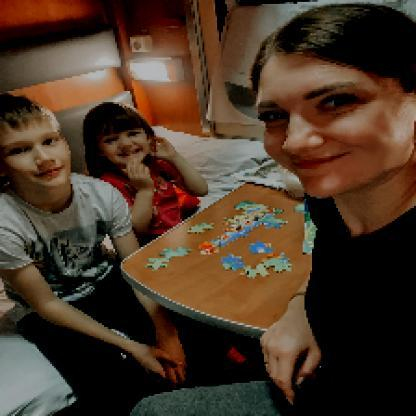child: (84, 101, 211, 246)
